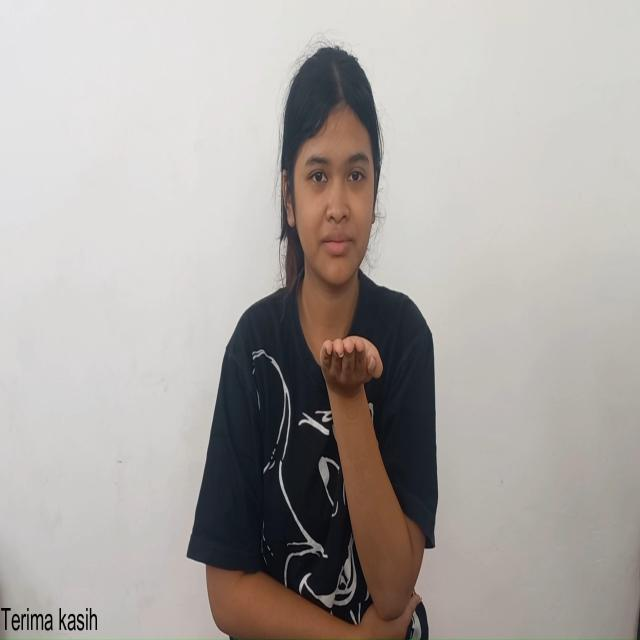Terima kasih -BISINDO-: (296, 295, 412, 537)
